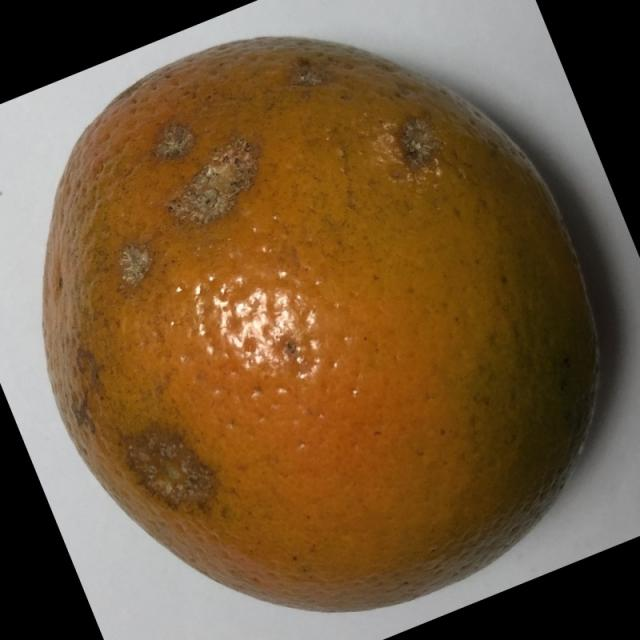canker: (26, 32, 623, 624)
